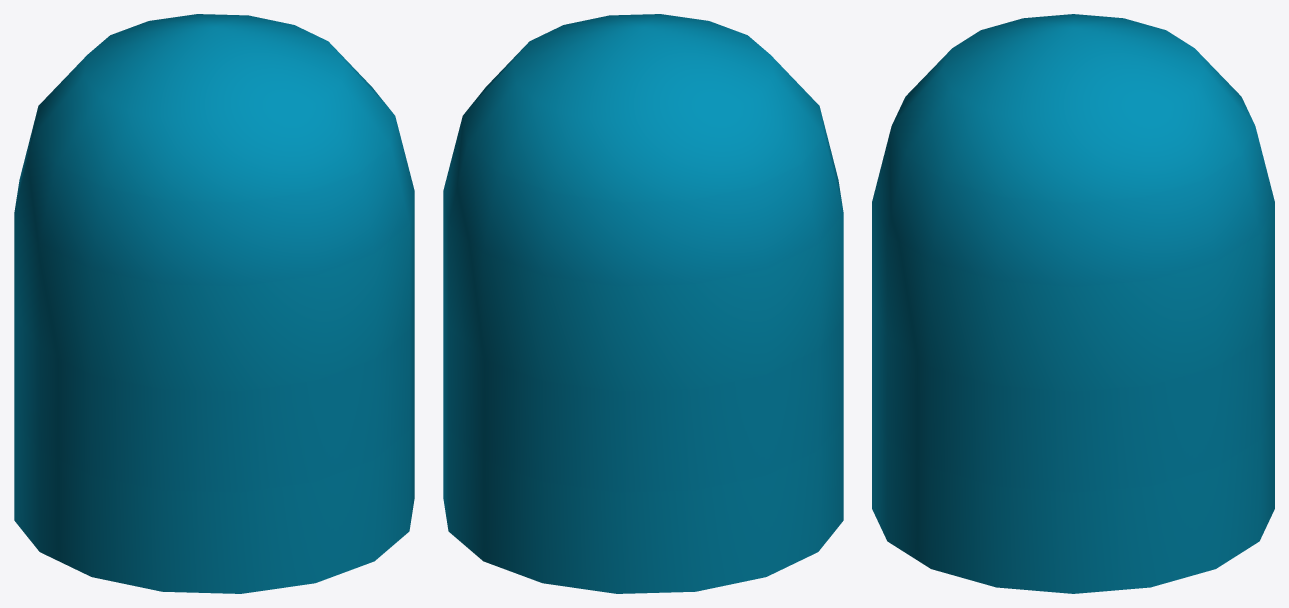
File: Arm_City_LSleeve_Blue_01_L.fbx
3 views of the same model, side by side, from view 1: azimuth 30°, elevation 25°; view 2: azimuth 150°, elevation 25°; view 3: azimuth 270°, elevation 25° (orthographic).
Parts seen in each view (by area): view 1: Arm_City_LSleeve_Blue_01_L; view 2: Arm_City_LSleeve_Blue_01_L; view 3: Arm_City_LSleeve_Blue_01_L.
Part boxes in pixels (x1=…): Arm_City_LSleeve_Blue_01_L: x1=14, y1=14, x2=414, y2=593; Arm_City_LSleeve_Blue_01_L: x1=443, y1=14, x2=843, y2=593; Arm_City_LSleeve_Blue_01_L: x1=872, y1=14, x2=1274, y2=593.
Size of the model in its own units: 48.18 by 63.45 by 48.18.
